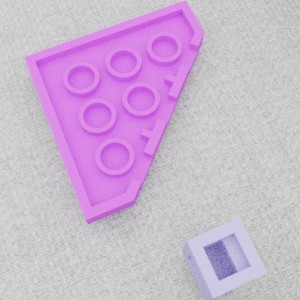lego: (23, 0, 204, 224), (181, 217, 267, 299)
